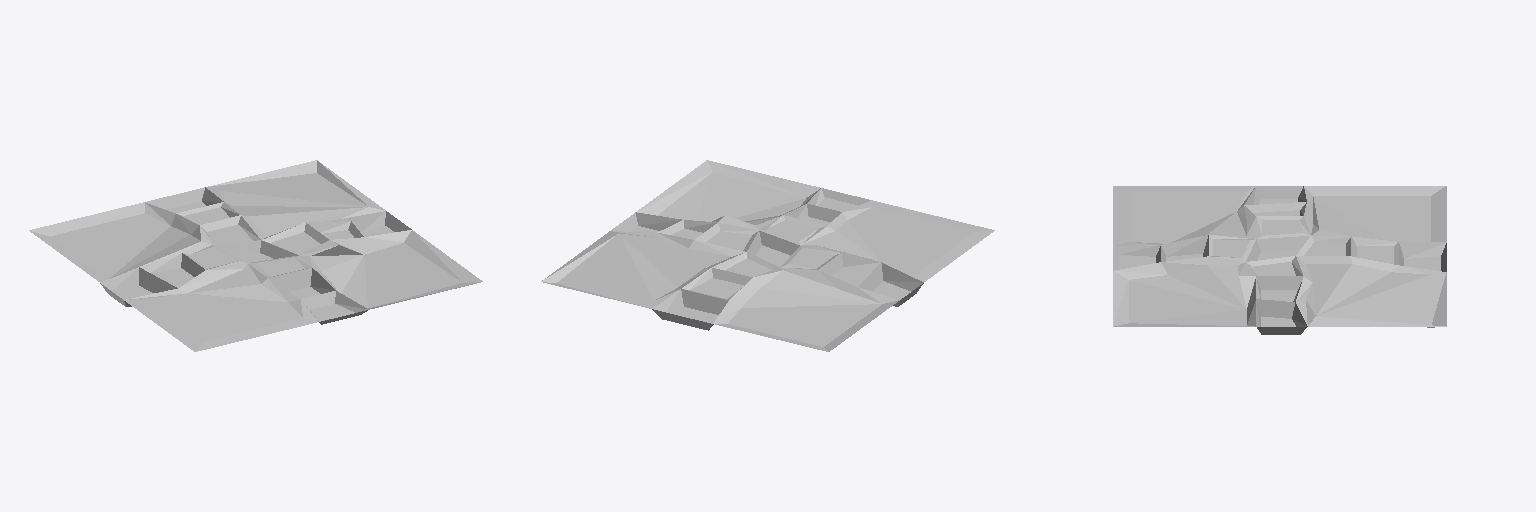
The model's file is roof_v2.obj.
3 views of the same model, side by side, from view 1: azimuth 30°, elevation 25°; view 2: azimuth 150°, elevation 25°; view 3: azimuth 270°, elevation 25° (orthographic).
Parts seen in each view (by area): view 1: roof_v2_Cube.003; view 2: roof_v2_Cube.003; view 3: roof_v2_Cube.003.
Part boxes in pixels (x1,y1,x2,y2): roof_v2_Cube.003: (29, 160, 482, 351); roof_v2_Cube.003: (541, 160, 994, 351); roof_v2_Cube.003: (1113, 186, 1446, 334).
Size of the model in its own units: 2 by 0.1405 by 2.